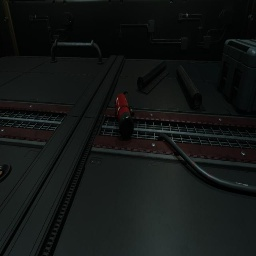FireExtinguisher ]: (114, 90, 134, 140)
